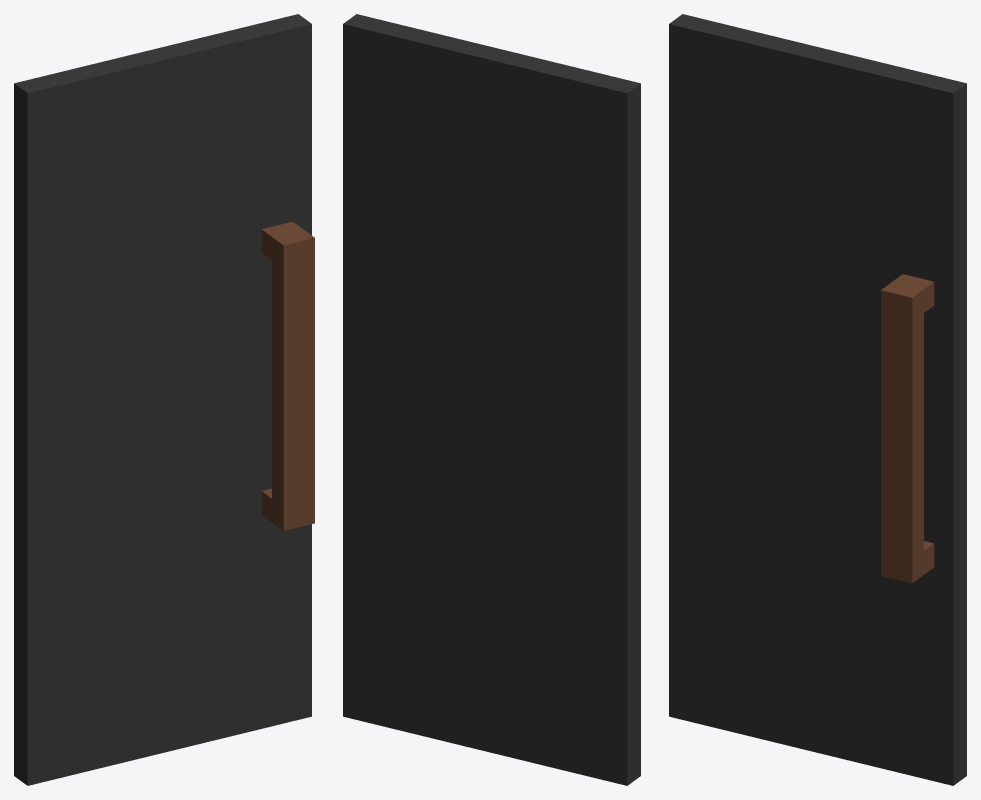
The model's file is Expositor_Door_3.obj.
3 views of the same model, side by side, from view 1: azimuth 30°, elevation 25°; view 2: azimuth 150°, elevation 25°; view 3: azimuth 330°, elevation 25° (orthographic).
Parts seen in each view (by area): view 1: Expositor_Door_3; view 2: Expositor_Door_3; view 3: Expositor_Door_3.
Boxes of the visible parts, x1,y1,x2,y2 form: Expositor_Door_3: [14, 14, 314, 785]; Expositor_Door_3: [343, 14, 640, 785]; Expositor_Door_3: [669, 14, 966, 785].
Size of the model in its own units: 0.3303 by 0.7689 by 0.0716.
